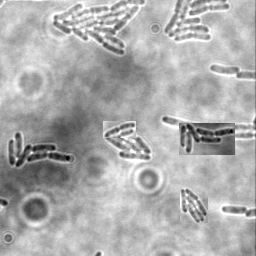Dividing: (161, 114, 255, 133), (103, 121, 136, 138), (221, 204, 248, 215)
Microcolony: (51, 1, 147, 56), (162, 1, 231, 44), (8, 130, 72, 167), (179, 123, 235, 155), (106, 124, 153, 160), (180, 187, 208, 223), (208, 63, 240, 74)
